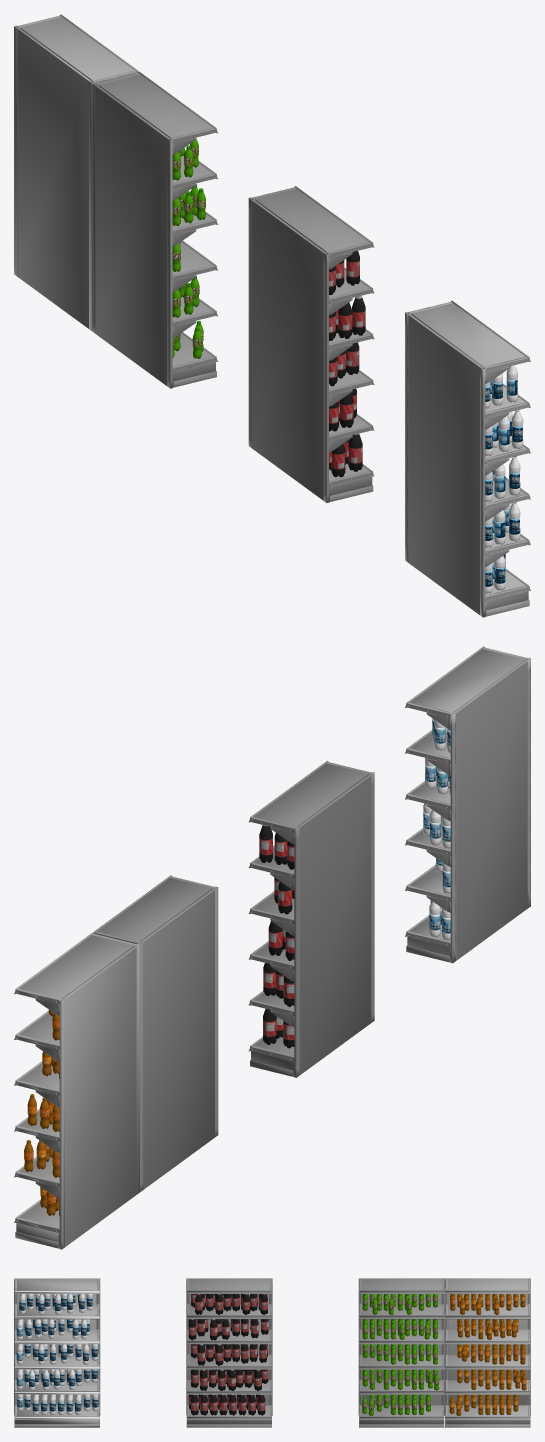
The model's file is shelf_water.fbx.
3 renders of one model, top to bottom at view 1: azimuth 30°, elevation 25°; view 2: azimuth 150°, elevation 25°; view 3: azimuth 270°, elevation 25°, orthographic. The views are drawn at different scales.
Parts seen in each view (by area): view 1: stelag_Buff_Big_, stelag_water_1, stelag_Kiwi_Juce, stelag_Orange_Juce; view 2: stelag_Buff_Big_, stelag_Orange_Juce, stelag_water_1, stelag_Kiwi_Juce; view 3: stelag_Buff_Big_, stelag_Kiwi_Juce, stelag_Orange_Juce, stelag_water_1.
Boxes of the visible parts, bbox=[...] form: stelag_Buff_Big_: bbox=[248, 186, 374, 502]; stelag_water_1: bbox=[405, 300, 530, 617]; stelag_Kiwi_Juce: bbox=[92, 71, 217, 388]; stelag_Orange_Juce: bbox=[14, 14, 138, 330]; stelag_Buff_Big_: bbox=[248, 761, 374, 1077]; stelag_Orange_Juce: bbox=[14, 932, 139, 1249]; stelag_water_1: bbox=[405, 646, 530, 963]; stelag_Kiwi_Juce: bbox=[93, 875, 218, 1191]; stelag_Buff_Big_: bbox=[186, 1278, 272, 1427]; stelag_Kiwi_Juce: bbox=[358, 1278, 444, 1427]; stelag_Orange_Juce: bbox=[444, 1278, 530, 1427]; stelag_water_1: bbox=[14, 1278, 100, 1427].
Bounding box in the file's own units: 42.86 × 211 × 720.
